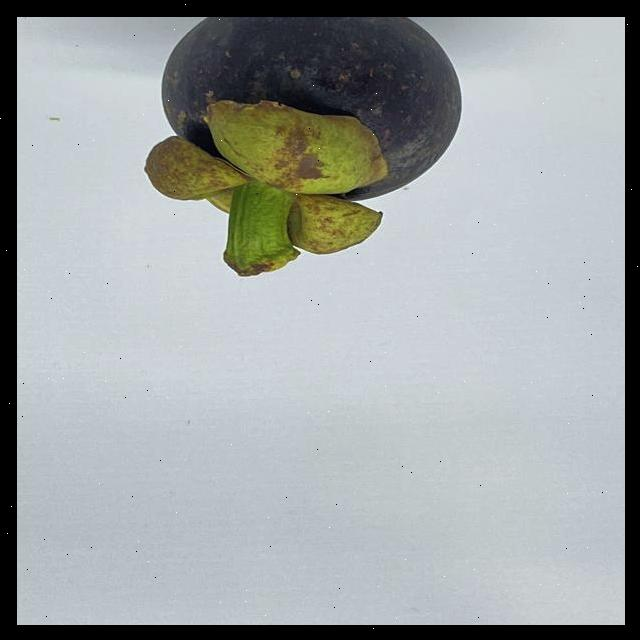mangosteen: (134, 16, 463, 290)
